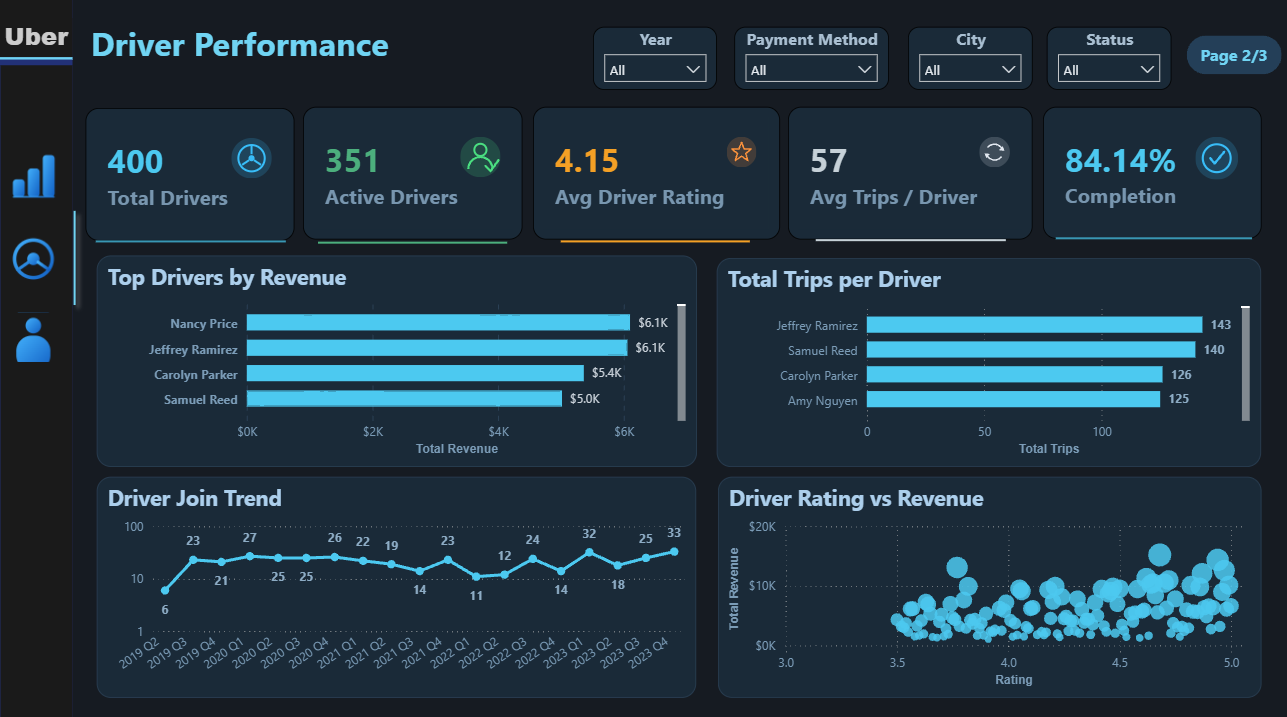

This screenshot's page, from the dashboard's own definition file:
{"tool":"powerbi","page":{"name":"Page 2","canvas":[1280,720],"ordinal":1},"visuals":[{"type":"shape","box":[6.2,0,70,720],"z":0},{"type":"textbox","box":[69.7,0,570.2,75.4],"z":1000},{"type":"slicer","title":"Payment Method","fields":{"Values":["dim_payment_method.payment_method_value"]},"box":[727.5,28.8,152.5,62.5],"z":2000},{"type":"slicer","title":"City","fields":{"Values":["dim_location.city"]},"box":[898.7,28.6,123.1,62.1],"z":3000},{"type":"slicer","title":"Status","fields":{"Values":["dim_status.status_value"]},"box":[1035.4,28.6,123.1,62.1],"z":4000},{"type":"shape","box":[1174.5,37,93.8,38.4],"z":5000},{"type":"cardVisual","fields":{"Data":["_measures.Drivers"]},"box":[97.6,108.9,205.9,131.1],"z":6000},{"type":"cardVisual","fields":{"Data":["_measures.Active Drivers"]},"box":[323.7,108.9,203.1,131.1],"z":7000},{"type":"cardVisual","fields":{"Data":["_measures.Avg Driver Rating"]},"box":[552.5,108.8,212.5,131.2],"z":8000},{"type":"cardVisual","fields":{"Data":["_measures.Avg Trips per Driver"]},"box":[776.2,108.8,218.8,131.2],"z":9000},{"type":"cardVisual","fields":{"Data":["_measures.Completion Rate"]},"box":[1007.5,108.8,216.2,130],"z":10000},{"type":"shape","box":[564.5,226.1,187.2,28.8],"z":11000},{"type":"barChart","title":"Top Drivers by Revenue","fields":{"Y":["_measures.Total Revenue"],"Category":["dim_driver.email"]},"box":[97.5,253.8,592.5,208.8],"z":12000},{"type":"shape","box":[331.2,226.1,187.2,28.8],"z":13000},{"type":"shape","box":[106.6,226.1,187.2,28.8],"z":14000},{"type":"shape","box":[790.6,226.1,187.2,28.8],"z":15000},{"type":"columnChart","title":"Trips per Driver","fields":{"Category":["dim_driver.name"],"Y":["_measures.Total Trips"]},"box":[710,256.2,537.5,206.2],"z":15000,"group":"g1"},{"type":"lineChart","title":"Driver Join Trend","fields":{"Y":["_measures.Drivers"],"Category":["dim_driver.join_date"]},"box":[97.5,485,592.5,206.2],"z":15000,"group":"g3"},{"type":"scatterChart","title":"Driver Rating vs Revenue","fields":{"X":["_measures.Total Revenue"],"Size":["_measures.Total Trips"],"Y":["dim_driver.rating"]},"box":[710,485,537.5,206.3],"z":15000,"group":"g2"},{"type":"shape","box":[1015.3,226.1,194.8,27],"z":16000},{"type":"group","id":"g1","title":"Group 1","box":[710,256.2,537.5,206.2],"z":17000},{"type":"actionButton","box":[5.7,136.5,58.3,76.8],"z":19000},{"type":"shape","box":[58.8,212.5,23.8,110],"z":20000},{"type":"slicer","title":"Year","fields":{"Values":["dim_date.year"]},"box":[587.5,28.8,122.5,62.5],"z":21000},{"type":"group","id":"g2","title":"Group 1","box":[710,485,537.5,206.2],"z":22000},{"type":"group","id":"g3","title":"Group 1","box":[97.5,485,592.5,206.2],"z":23000},{"type":"actionButton","box":[6.2,226.2,57.5,77.5],"z":24000},{"type":"actionButton","box":[7.5,320,57.5,77.5],"z":25000}]}

Visuals, with their boxes in screenshot pixels (x1, y1, x2, y2), scaled from the page's 1280x720 canvas onto the 1287x717 screenshot:
shape: bbox=(6, 0, 77, 716)
textbox: bbox=(70, 0, 643, 75)
"Payment Method" slicer: bbox=(731, 29, 885, 91)
"City" slicer: bbox=(904, 28, 1027, 90)
"Status" slicer: bbox=(1041, 28, 1165, 90)
shape: bbox=(1181, 37, 1275, 75)
cardVisual - _measures.Drivers: bbox=(98, 108, 305, 239)
cardVisual - _measures.Active Drivers: bbox=(325, 108, 530, 239)
cardVisual - _measures.Avg Driver Rating: bbox=(556, 108, 769, 239)
cardVisual - _measures.Avg Trips per Driver: bbox=(780, 108, 1000, 239)
cardVisual - _measures.Completion Rate: bbox=(1013, 108, 1230, 238)
shape: bbox=(568, 225, 756, 254)
"Top Drivers by Revenue" barChart: bbox=(98, 253, 694, 461)
shape: bbox=(333, 225, 521, 254)
shape: bbox=(107, 225, 295, 254)
shape: bbox=(795, 225, 983, 254)
"Trips per Driver" columnChart: bbox=(714, 255, 1254, 460)
"Driver Join Trend" lineChart: bbox=(98, 483, 694, 688)
"Driver Rating vs Revenue" scatterChart: bbox=(714, 483, 1254, 688)
shape: bbox=(1021, 225, 1217, 252)
"Group 1" group: bbox=(714, 255, 1254, 460)
actionButton: bbox=(6, 136, 64, 212)
shape: bbox=(59, 212, 83, 321)
"Year" slicer: bbox=(591, 29, 714, 91)
"Group 1" group: bbox=(714, 483, 1254, 688)
"Group 1" group: bbox=(98, 483, 694, 688)
actionButton: bbox=(6, 225, 64, 302)
actionButton: bbox=(8, 319, 65, 396)
